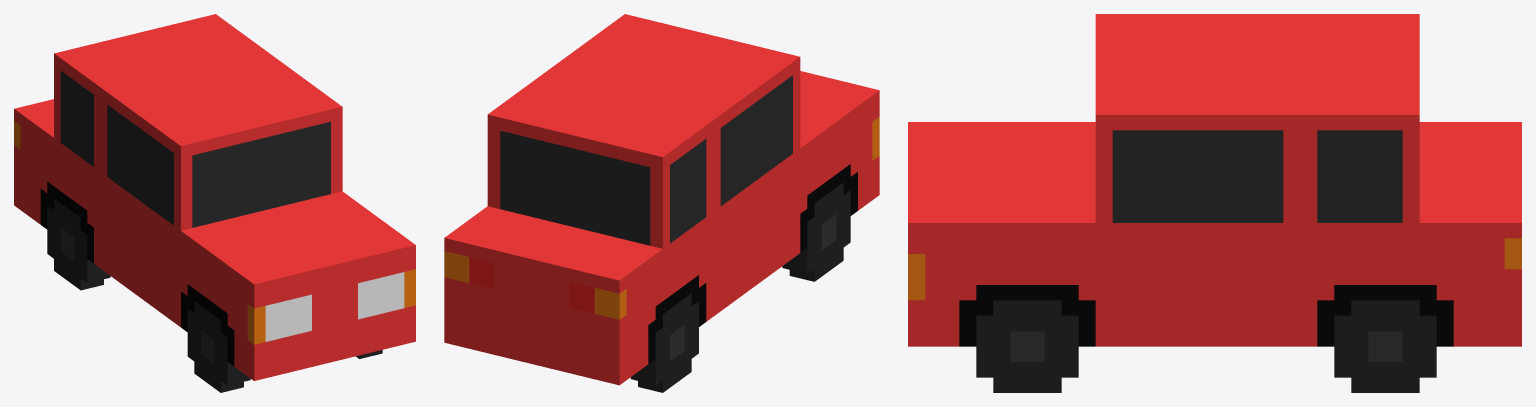
The model's file is kit-voxel-standard-red.glb.
3 views of the same model, side by side, from view 1: azimuth 30°, elevation 25°; view 2: azimuth 150°, elevation 25°; view 3: azimuth 270°, elevation 25° (orthographic). The views are drawn at different scales.
Parts seen in each view (by area): view 1: geometry_1; view 2: geometry_1; view 3: geometry_1.
Boxes of the visible parts, x1,y1,x2,y2 form: geometry_1: (14,14,415,392); geometry_1: (444,14,879,392); geometry_1: (908,14,1521,392).
Size of the model in its own units: 1.4 by 1.8 by 3.6.
1 material, 1 textured.
